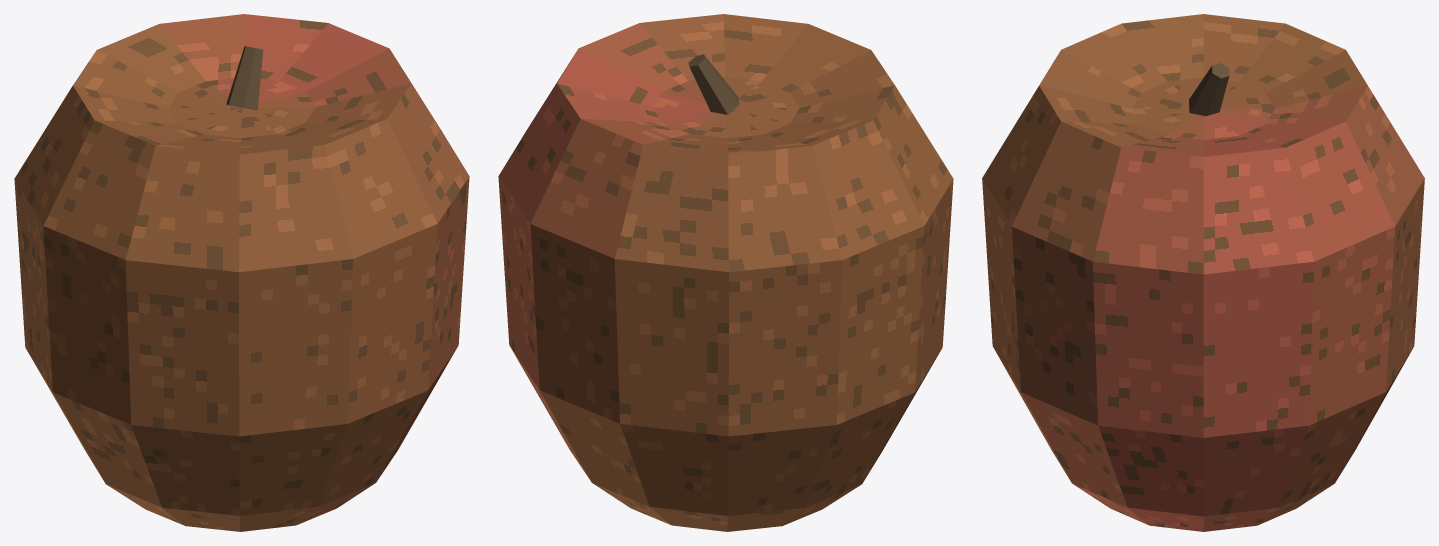
File: crabapple.glb
3 renders of one model, left to right at view 1: azimuth 30°, elevation 25°; view 2: azimuth 150°, elevation 25°; view 3: azimuth 270°, elevation 25°, orthographic.
Parts seen in each view (by area): view 1: block_crabapple, block_woody stem; view 2: block_crabapple, block_woody stem; view 3: block_crabapple, block_woody stem.
Part boxes in pixels (left/top/right/bottom): block_crabapple: left=14, top=14, right=469, bottom=531; block_woody stem: left=226, top=46, right=263, bottom=110; block_crabapple: left=498, top=14, right=953, bottom=531; block_woody stem: left=688, top=54, right=739, bottom=114; block_crabapple: left=982, top=14, right=1424, bottom=531; block_woody stem: left=1189, top=63, right=1229, bottom=116.
Size of the model in its own units: 0.0699 by 0.0724 by 0.0678.
Materials: 1 (1 with a texture image).
